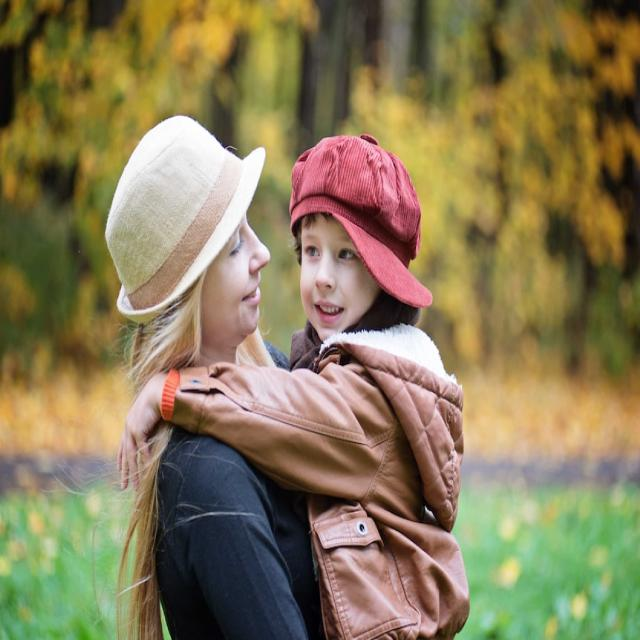cap: (289, 131, 434, 345)
hat: (108, 116, 268, 349)
